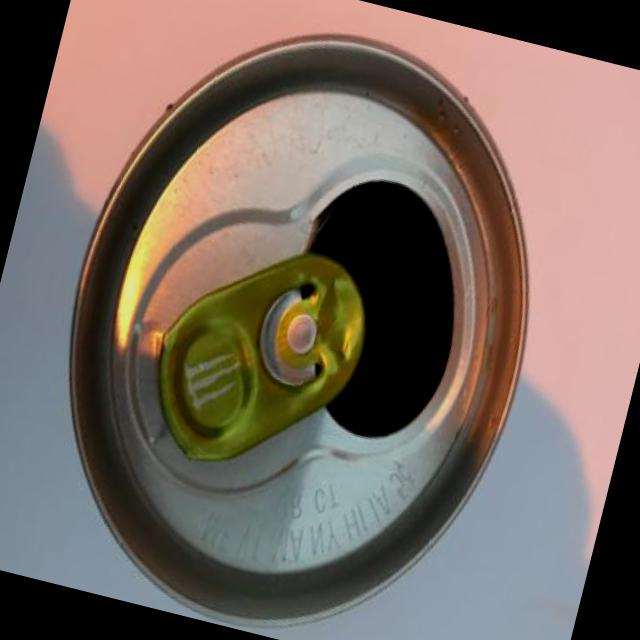nhom: (66, 34, 530, 632)
